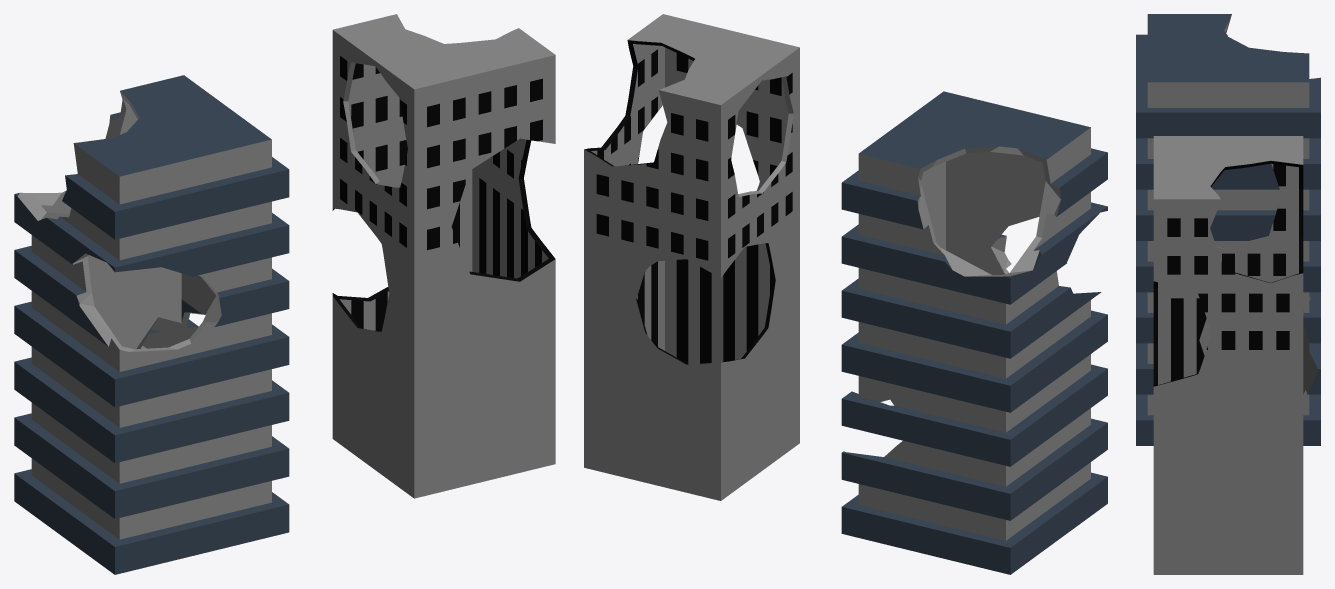
File: Buildings.glb
3 renders of one model, left to right at view 1: azimuth 30°, elevation 25°; view 2: azimuth 150°, elevation 25°; view 3: azimuth 270°, elevation 25°, orthographic. The views are drawn at different scales.
Visible parts, largest first — view 1: Cube, Cube.001; view 2: Cube, Cube.001; view 3: Cube.001, Cube.
Part boxes in pixels (<box>): Cube: <box>14,75,289,574</box>; Cube.001: <box>332,14,555,498</box>; Cube: <box>841,91,1107,574</box>; Cube.001: <box>584,14,799,500</box>; Cube.001: <box>1153,136,1303,574</box>; Cube: <box>1136,14,1320,445</box>.
Size of the model in its own units: 113 by 98.09 by 43.75.
